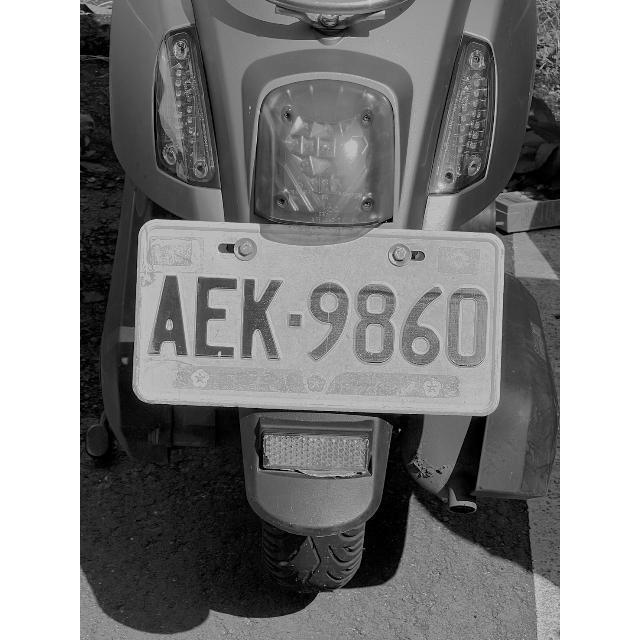-: (287, 308, 307, 334)
0: (446, 287, 490, 371)
6: (402, 284, 444, 368)
8: (354, 281, 398, 367)
9: (306, 277, 350, 367)
A: (150, 274, 188, 358)
E: (192, 272, 238, 360)
K: (242, 274, 286, 364)
